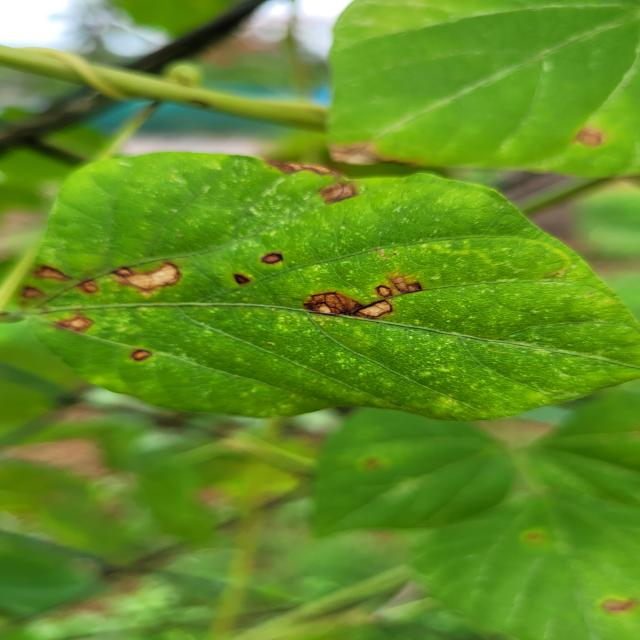Dolicos bean_cercospora leaf spot: (0, 149, 640, 415), (328, 0, 640, 176), (294, 396, 538, 536)
